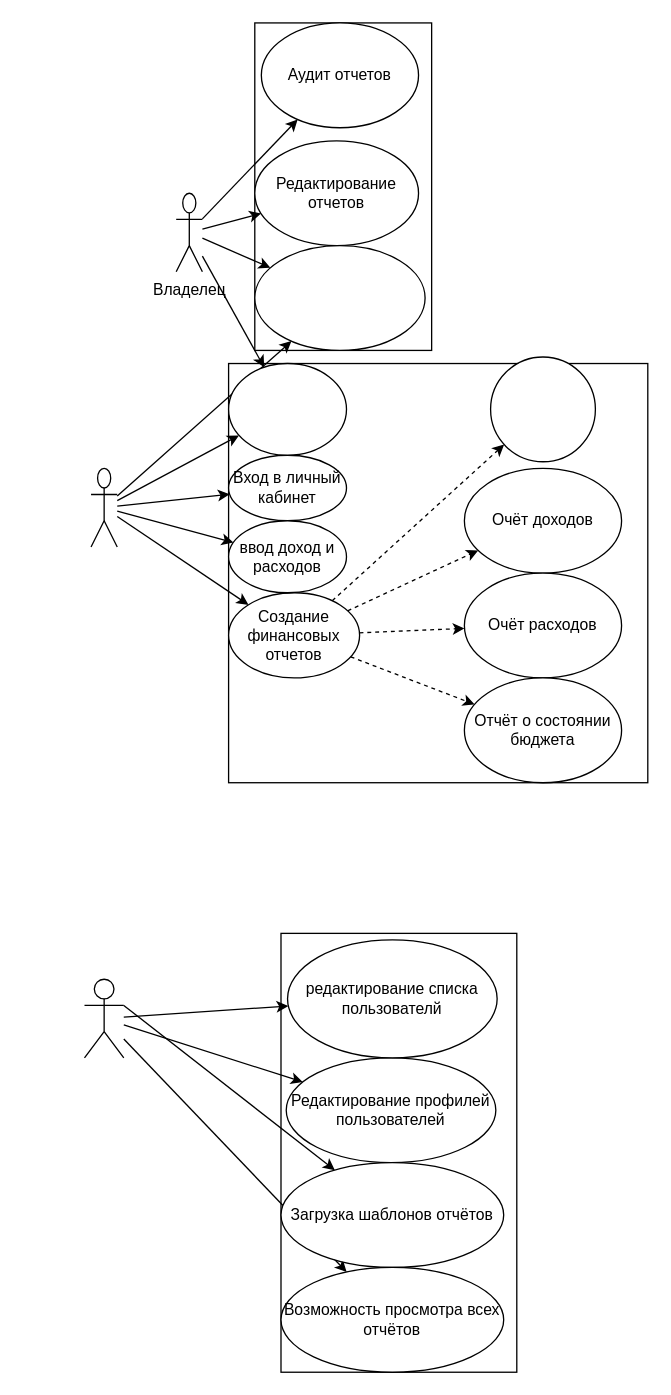
The diagram is 671 pixels wide and 1395 high, and some of its shapes have lost their labels. The centre of each missing label's shape, as x and y in pixels:
"admin" belongs at point 103,1018.
"планфактный отчёт" belongs at point 542,409.
"просмотр отчётов в виде графиков" belongs at point 339,297.
"Просмотр текущего бюждета" belongs at point 286,408.
"финасовый менеджер" belongs at point 103,507.
